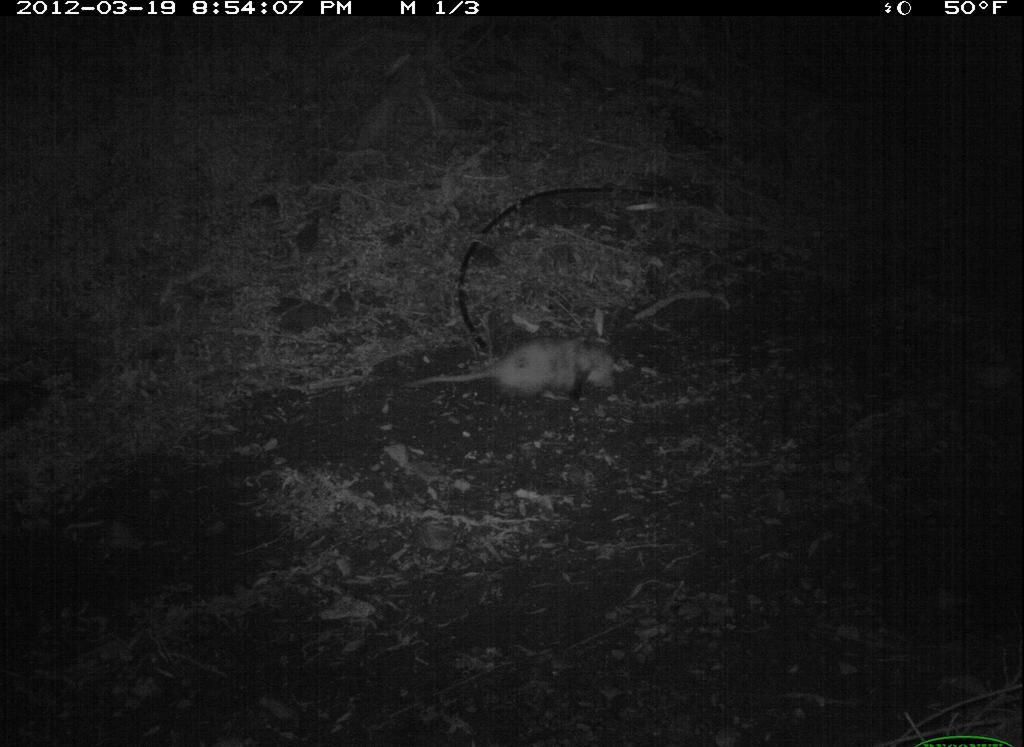opossum: (400, 324, 675, 420)
